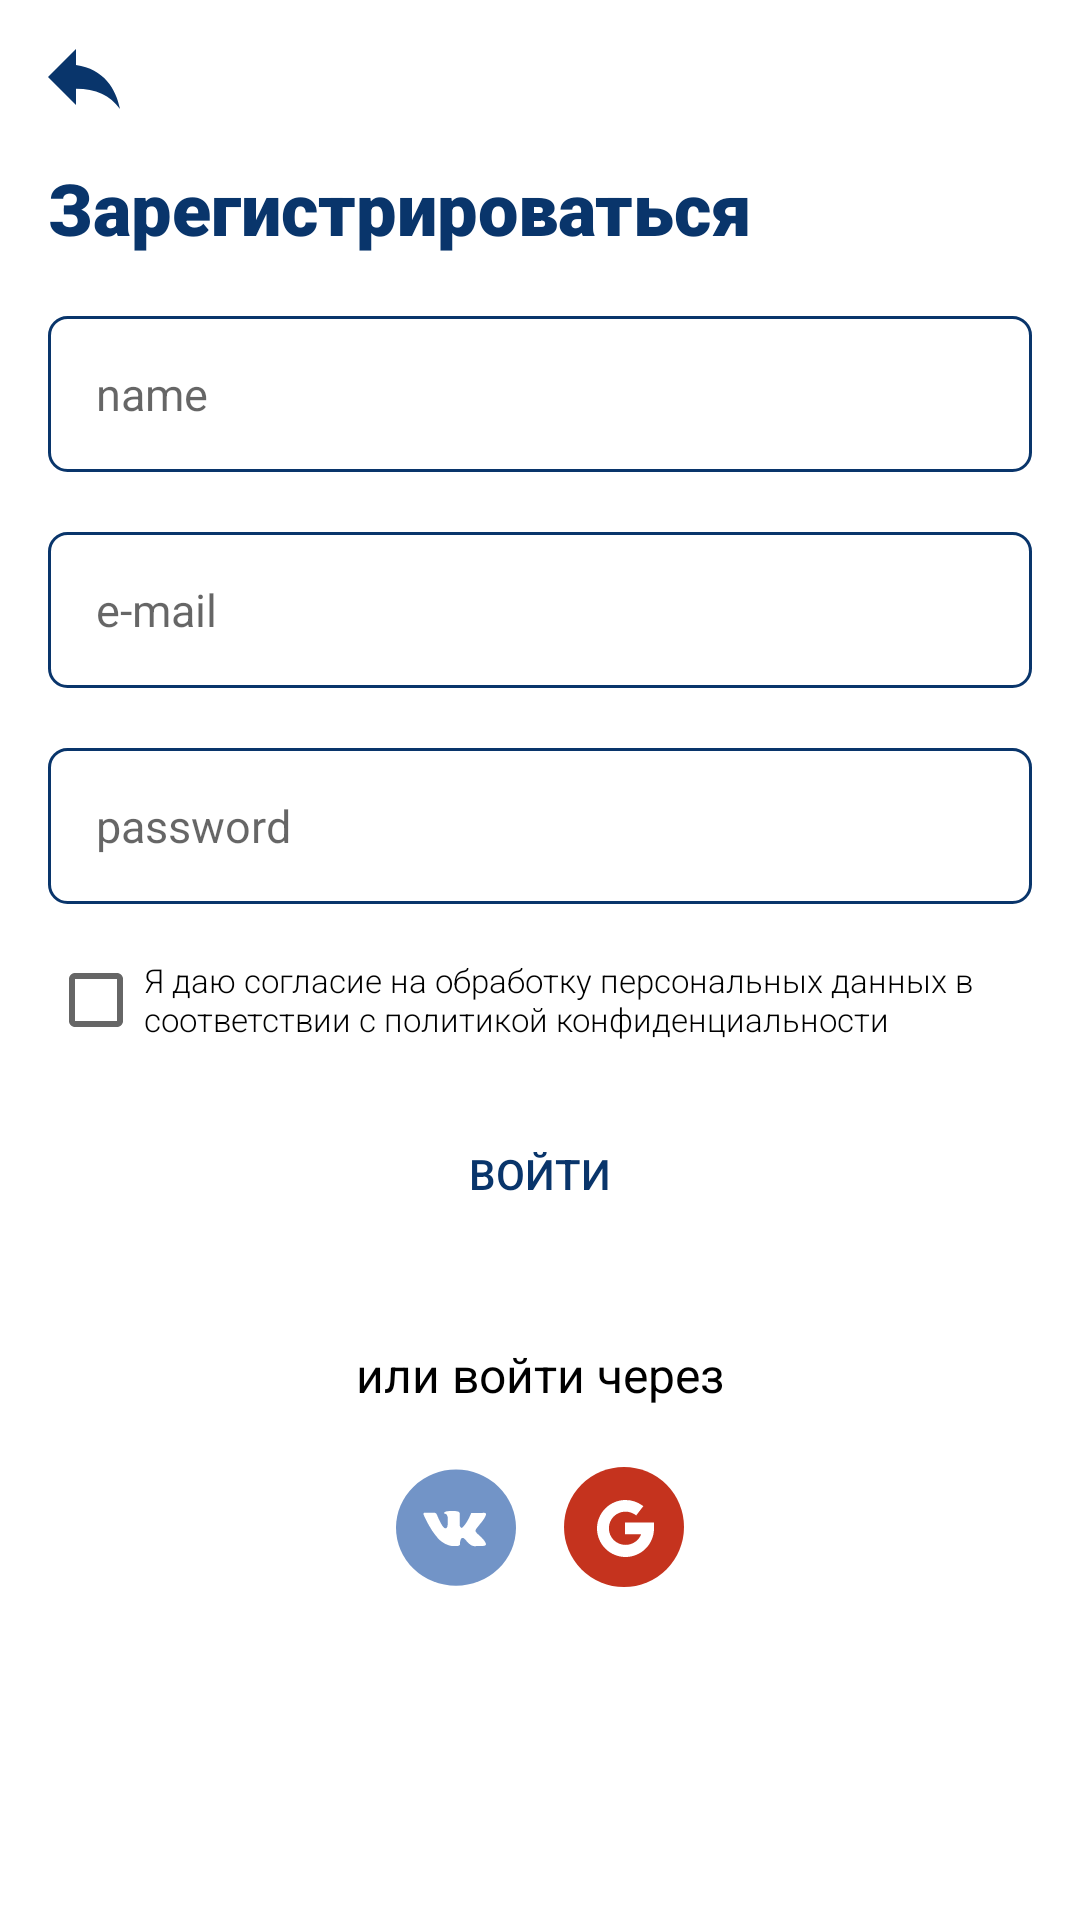

Icon click points for this 1080 × 1920 phone screenshot, format (x,y):
back: (84,79)
